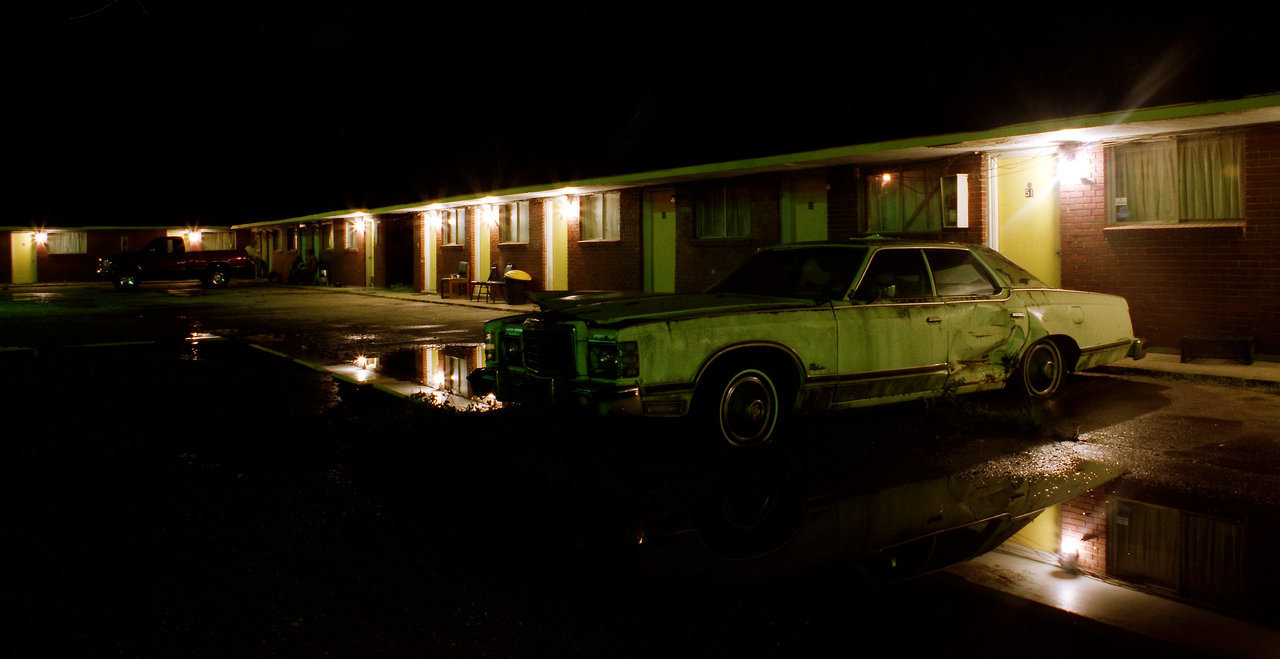car: (91, 231, 264, 304)
